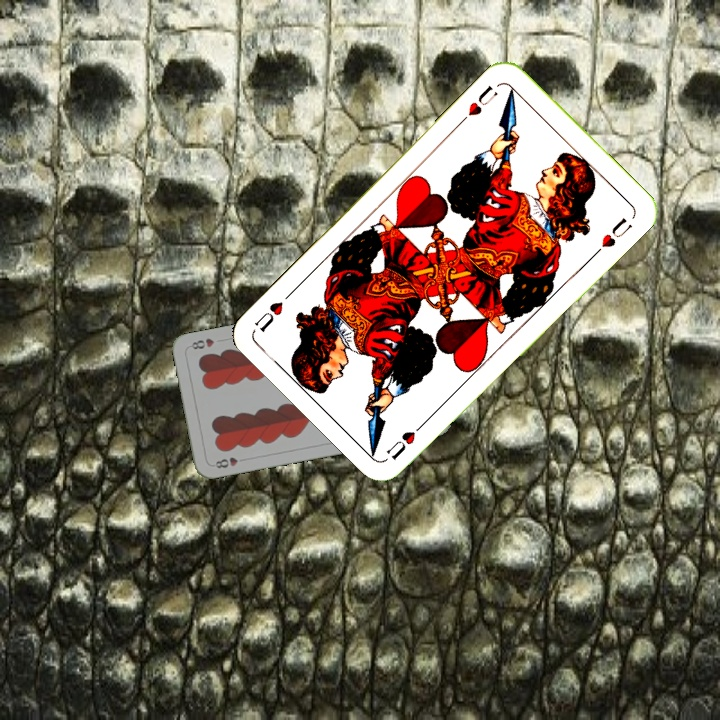H8: (211, 453, 249, 471)
HU: (382, 416, 430, 463), (463, 82, 500, 119)
